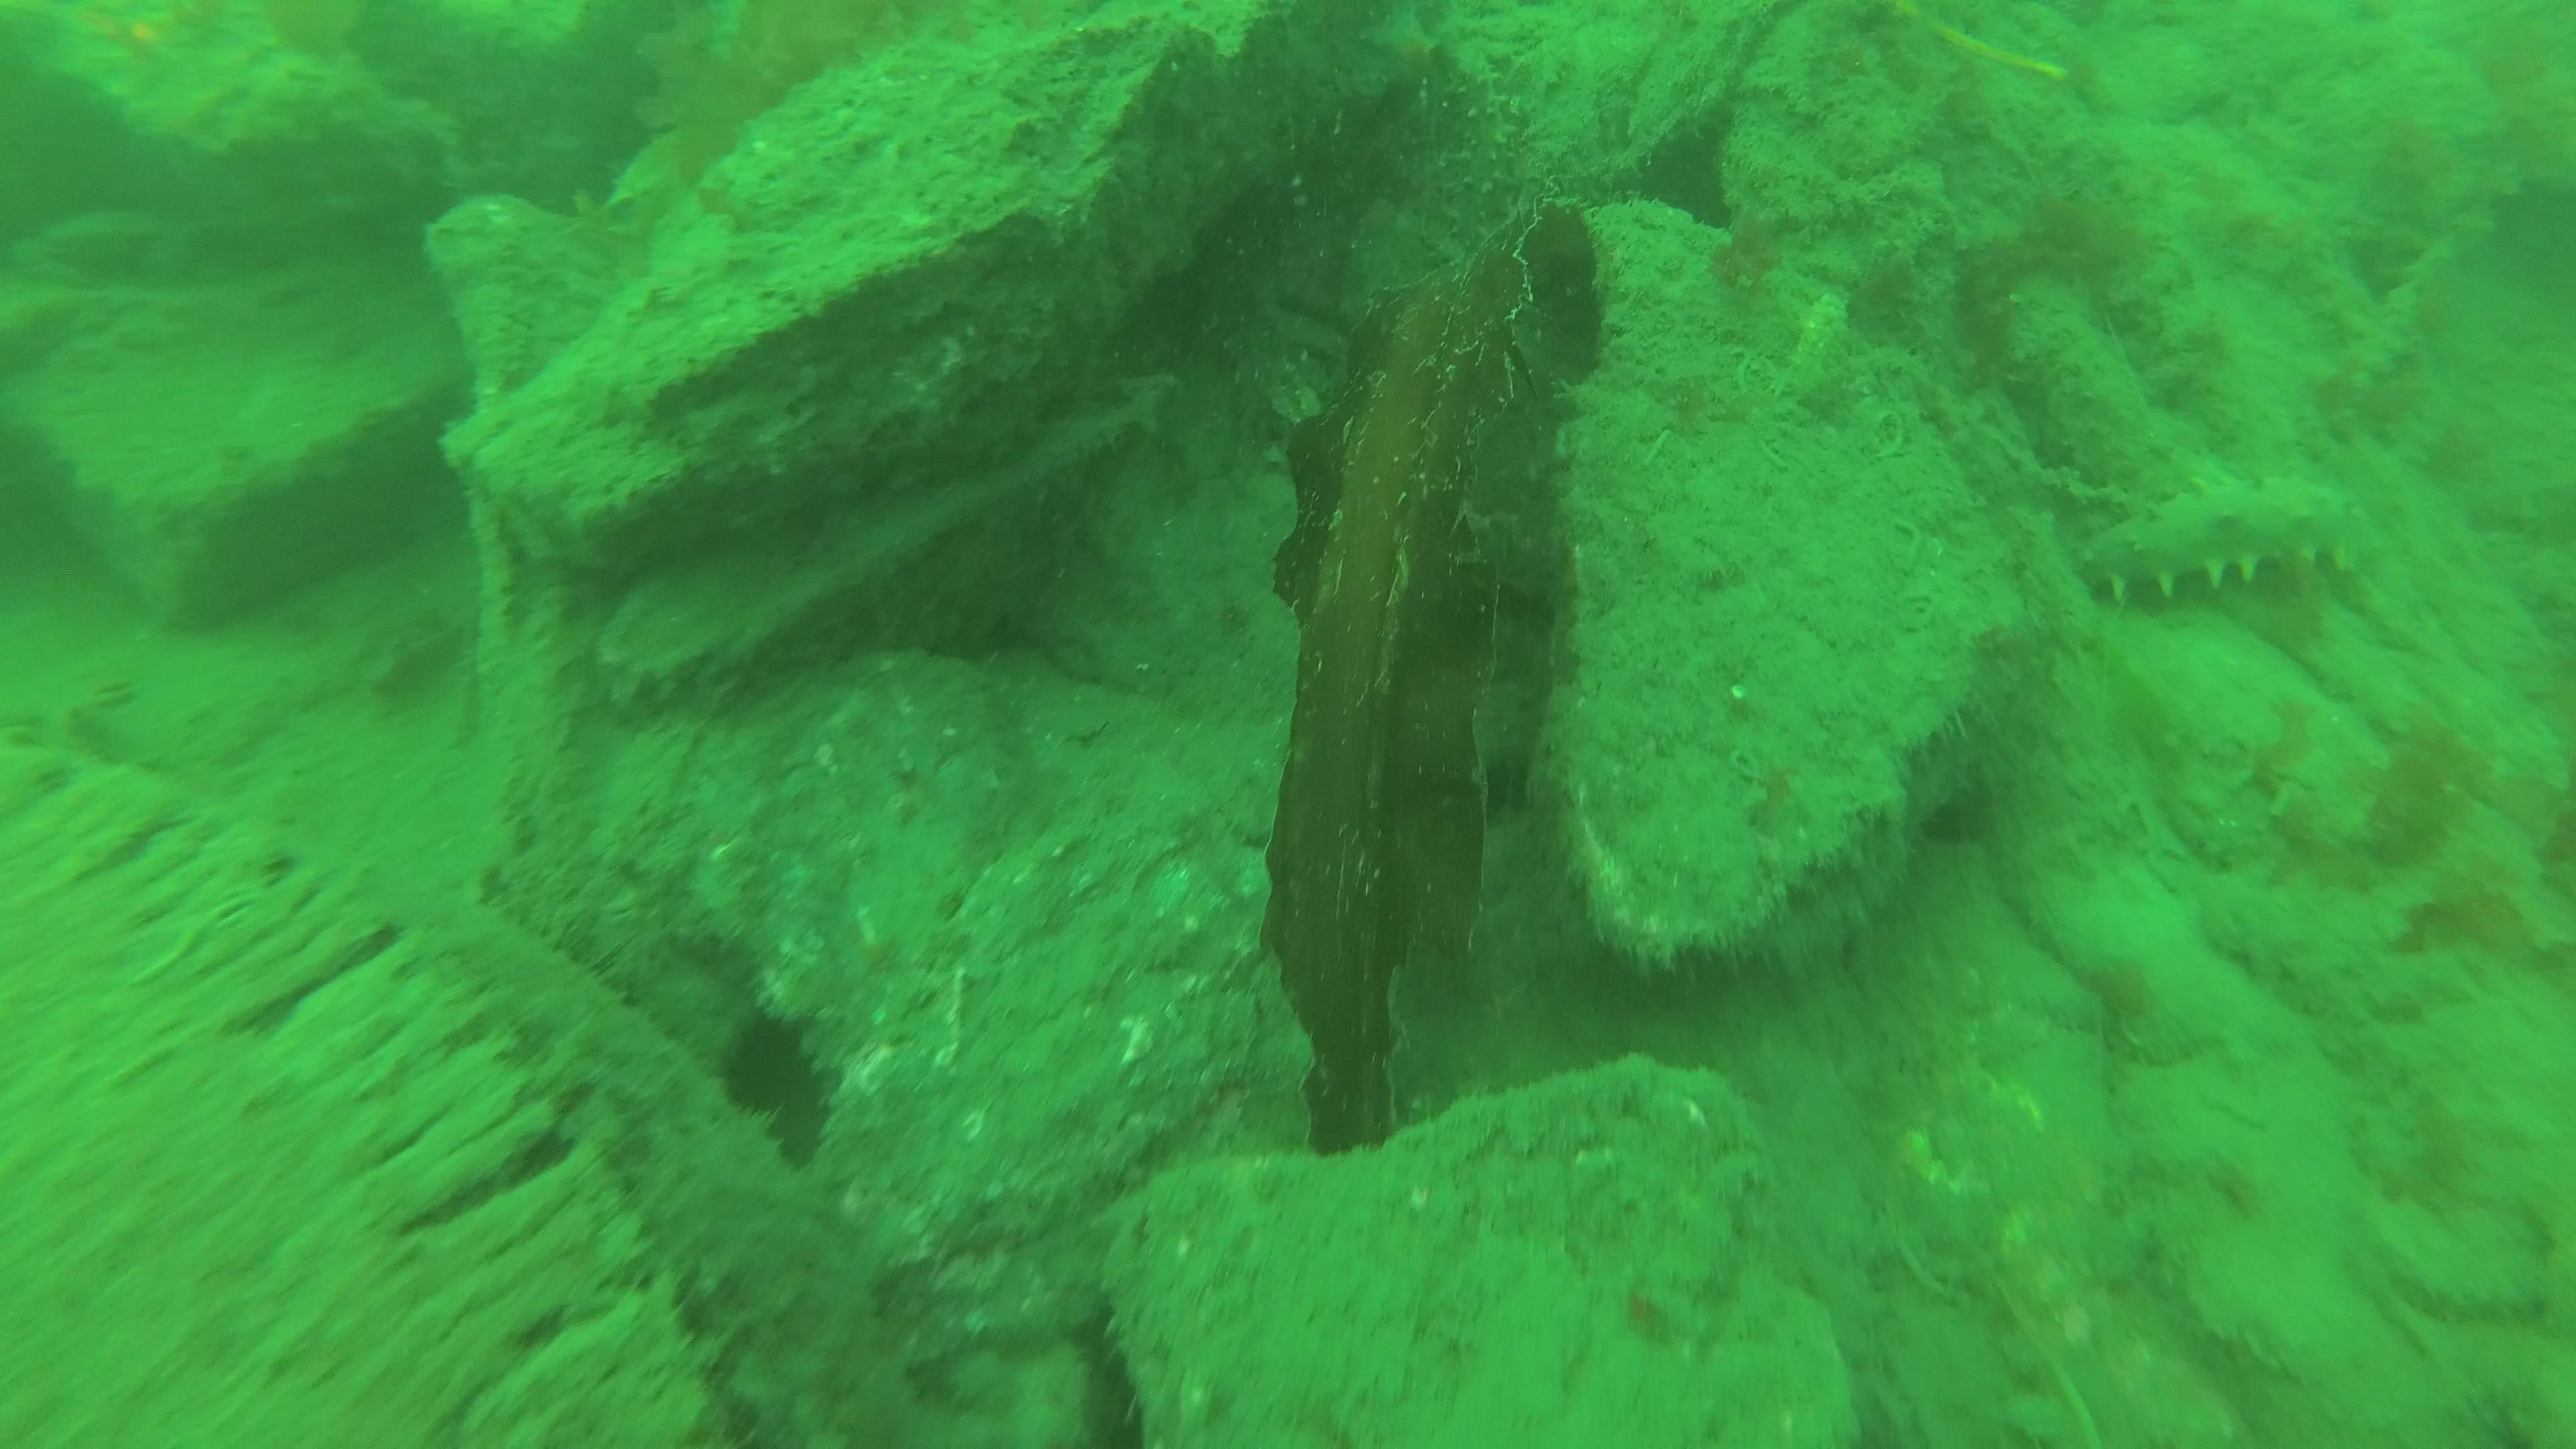holothurian: (2059, 464, 2390, 594)
